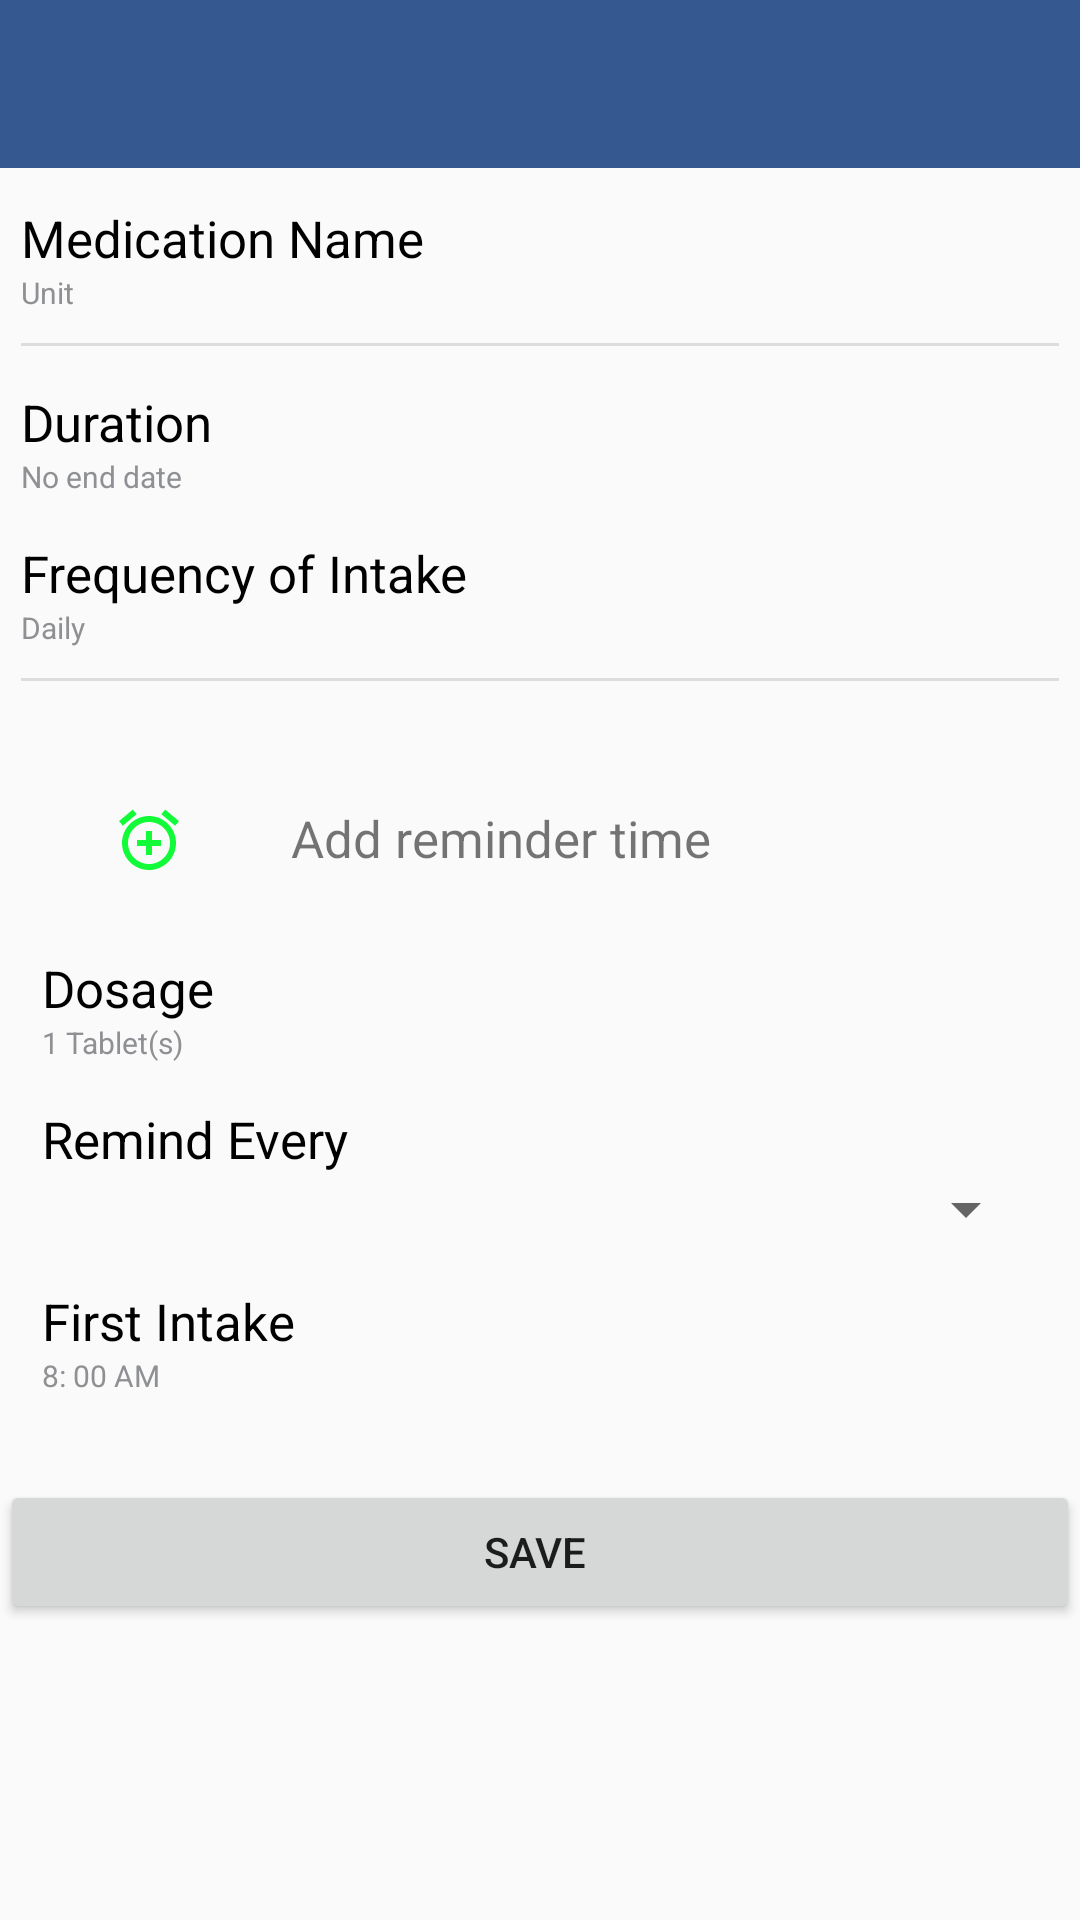

Icons on this 1080w x 1920h Android screen, each with the point to tap as (x,y):
add alarm: (149,839)
